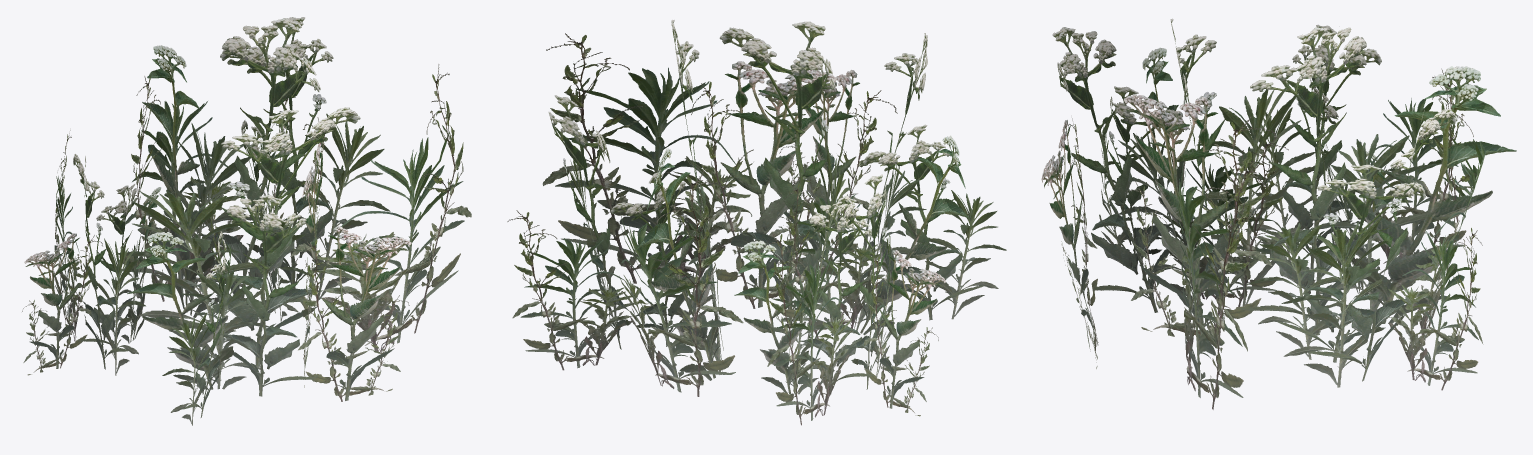
Rendered from proc_wildquinine.FBX.
3 renders of one model, left to right at view 1: azimuth 30°, elevation 25°; view 2: azimuth 150°, elevation 25°; view 3: azimuth 270°, elevation 25°, orthographic. The views are drawn at different scales.
Visible parts, largest first — view 1: proc_wildquinine; view 2: proc_wildquinine; view 3: proc_wildquinine.
Boxes of the visible parts, x1,y1,x2,y2 form: proc_wildquinine: (22,17,471,425); proc_wildquinine: (507,20,1006,425); proc_wildquinine: (1041,18,1516,409).
Size of the model in its own units: 2.6 by 2.27 by 1.82.
Materials: 1 (1 with a texture image).
